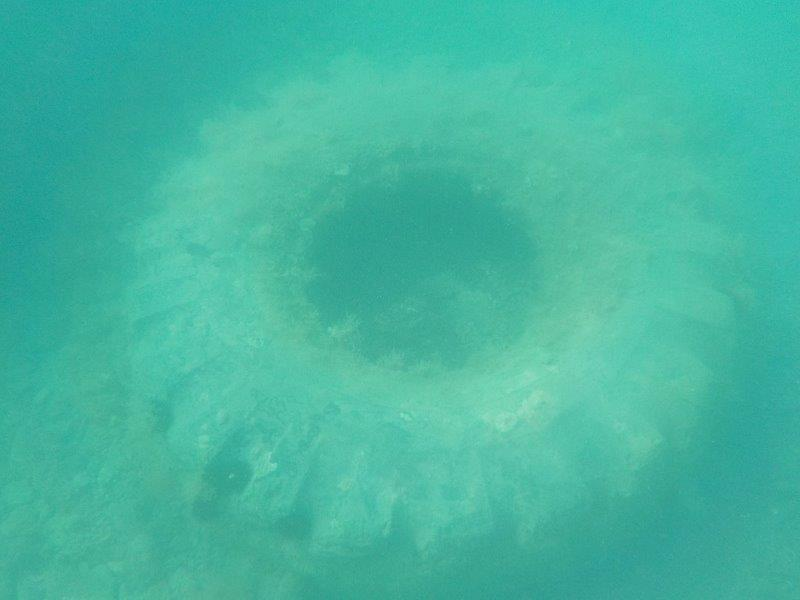tire: (126, 34, 774, 600)
